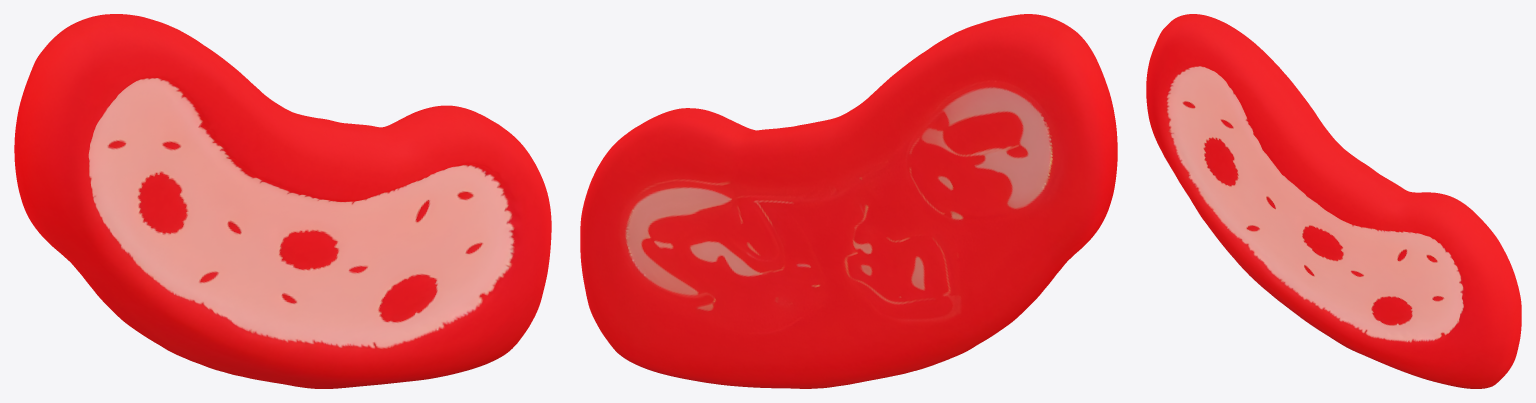
File: base_basic_shaded.fbx
3 renders of one model, left to right at view 1: azimuth 30°, elevation 25°; view 2: azimuth 150°, elevation 25°; view 3: azimuth 330°, elevation 25°, orthographic. The views are drawn at different scales.
Parts seen in each view (by area): view 1: model; view 2: model; view 3: model.
Part boxes in pixels (x1,y1,x2,y2): model: [14, 14, 551, 388]; model: [580, 14, 1117, 388]; model: [1146, 14, 1521, 388].
Size of the model in its own units: 171 by 135 by 22.7.
